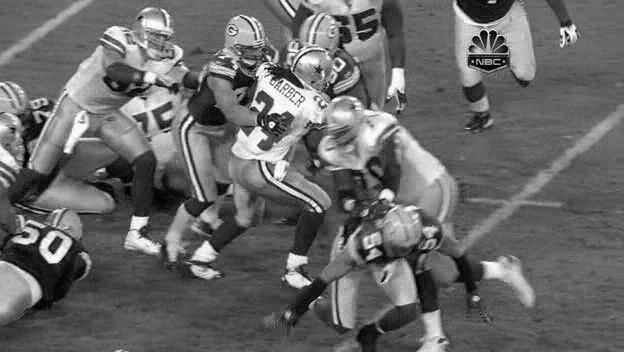person: (296, 49, 331, 94), (295, 49, 330, 94), (297, 49, 332, 94), (296, 48, 331, 93), (296, 50, 331, 95)
target_negative: (440, 138, 540, 285), (5, 292, 447, 319), (66, 333, 524, 350), (472, 247, 562, 268), (565, 146, 583, 210), (441, 238, 457, 267)
